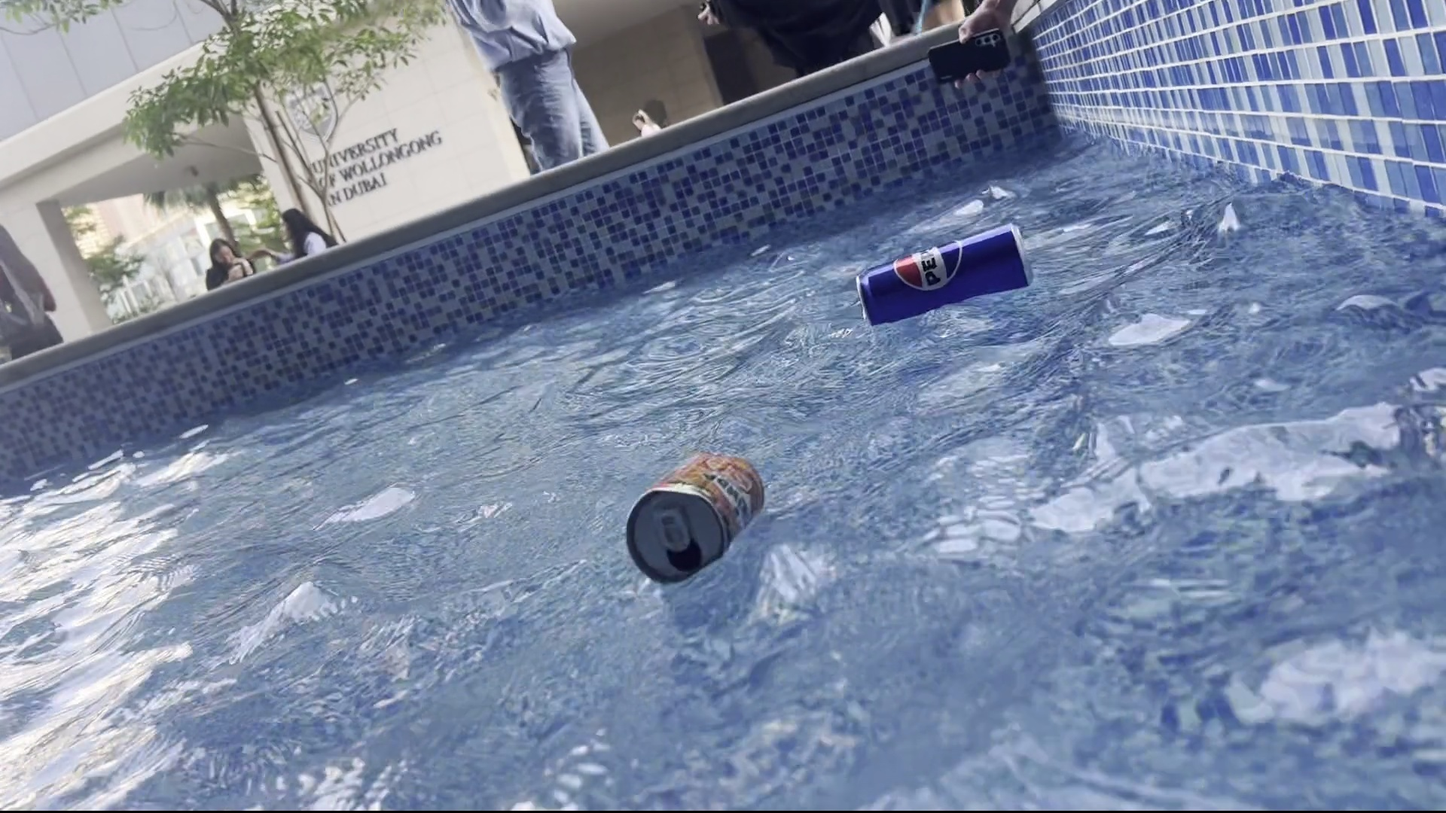debris: (853, 211, 1035, 335), (615, 452, 770, 592)
